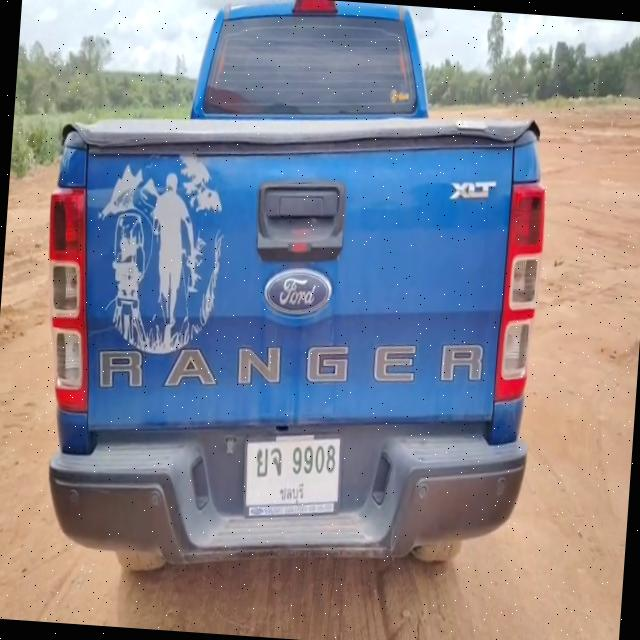Digit: (290, 442, 337, 479)
Licenseplate: (240, 434, 346, 518)
Provincename: (277, 480, 308, 506)
Thaichar: (254, 443, 284, 481)
